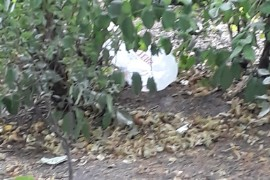trash: (91, 4, 264, 102)
